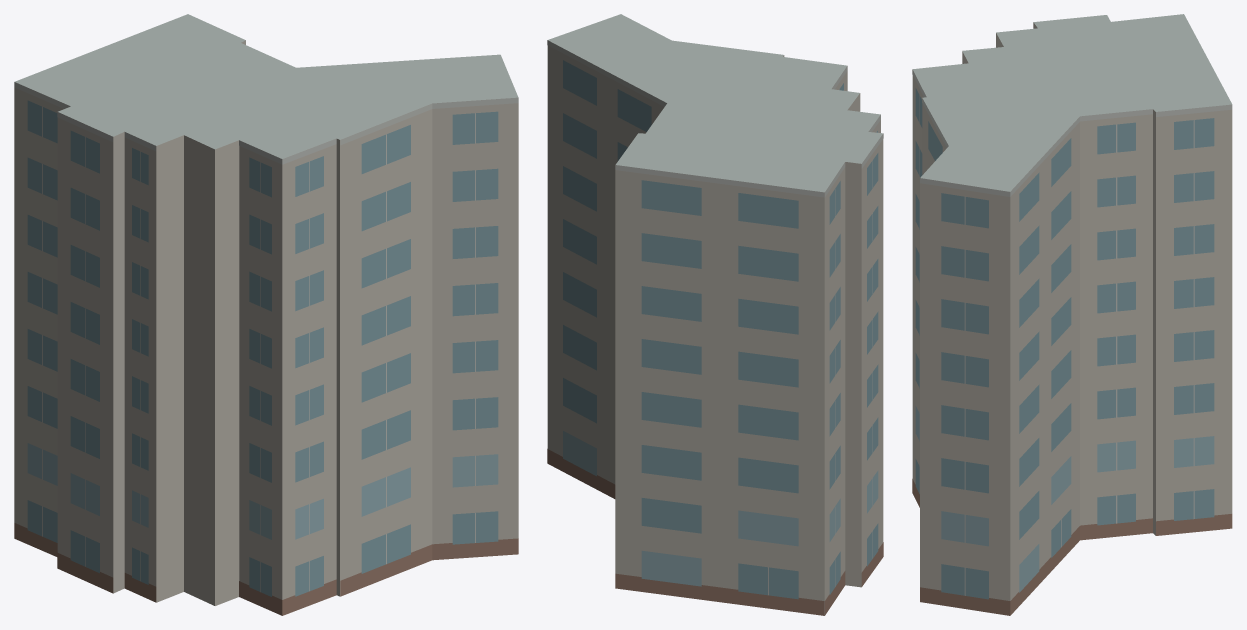
Rendered from survey-upis-32722604.glb.
3 renders of one model, left to right at view 1: azimuth 30°, elevation 25°; view 2: azimuth 150°, elevation 25°; view 3: azimuth 270°, elevation 25°, orthographic. The views are drawn at different scales.
Visible parts, largest first — view 1: survey-upis-32722604.tmp; view 2: survey-upis-32722604.tmp; view 3: survey-upis-32722604.tmp.
Boxes of the visible parts, x1,y1,x2,y2 form: survey-upis-32722604.tmp: [14, 14, 518, 615]; survey-upis-32722604.tmp: [547, 14, 883, 615]; survey-upis-32722604.tmp: [912, 14, 1232, 615].
Size of the model in its own units: 18.01 by 20.01 by 13.7.
